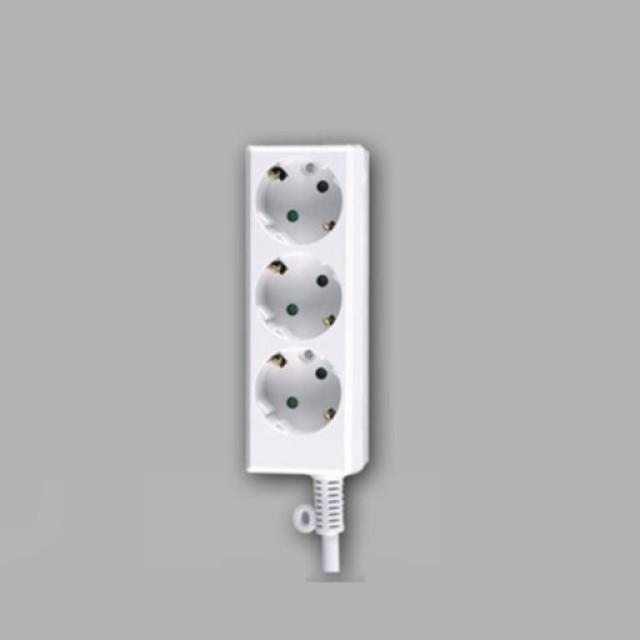typeb: (200, 131, 433, 510)
